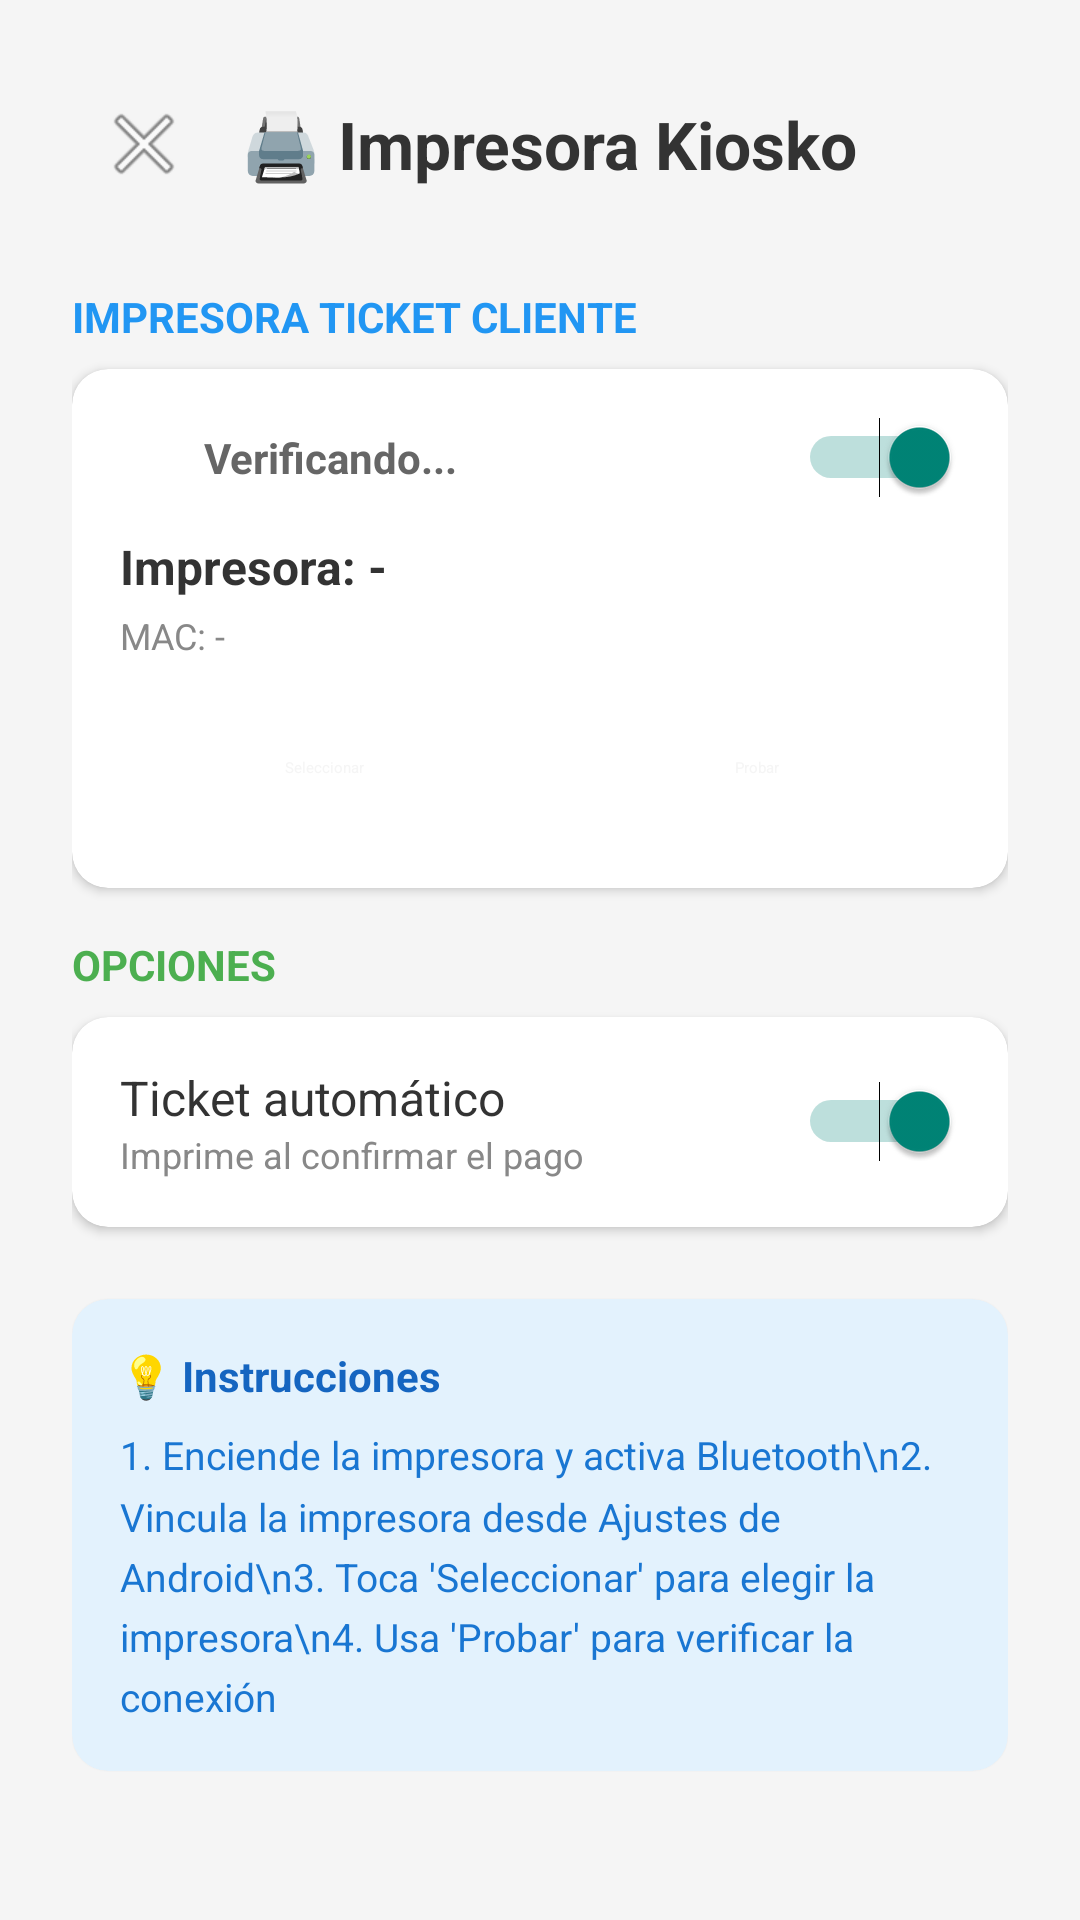

Icons on this 1080px x 1920px Android screen, each with its box as (x1, y1, x2, y2):
Volver: (114, 114, 174, 174)
